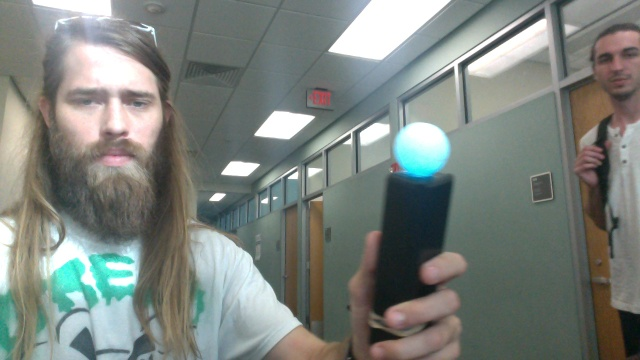wand: (395, 124, 449, 177)
